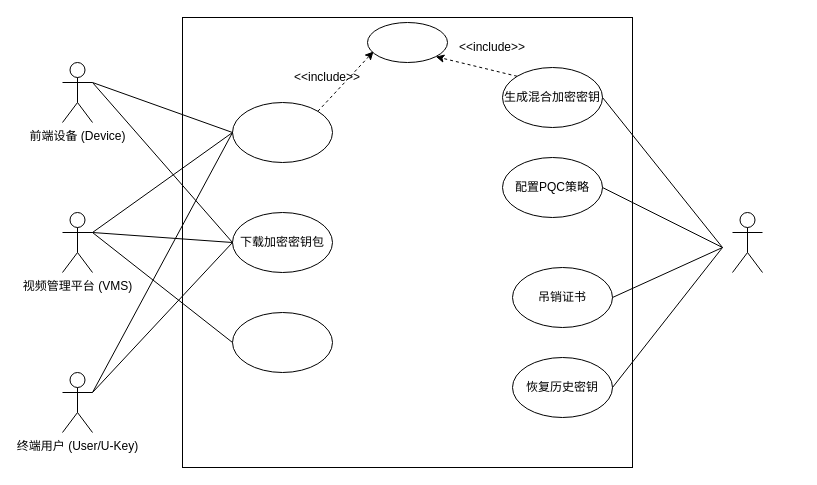
This 817x485 diagram has some shape labels left out. Each missing label, with the centre of its shape:
"下载CRL/证书链" belongs at (282,342).
"执行sidecar" belongs at (407,42).
"申请混合签名证书" belongs at (282,132).
"系统管理员 (Admin)" belongs at (747,242).
